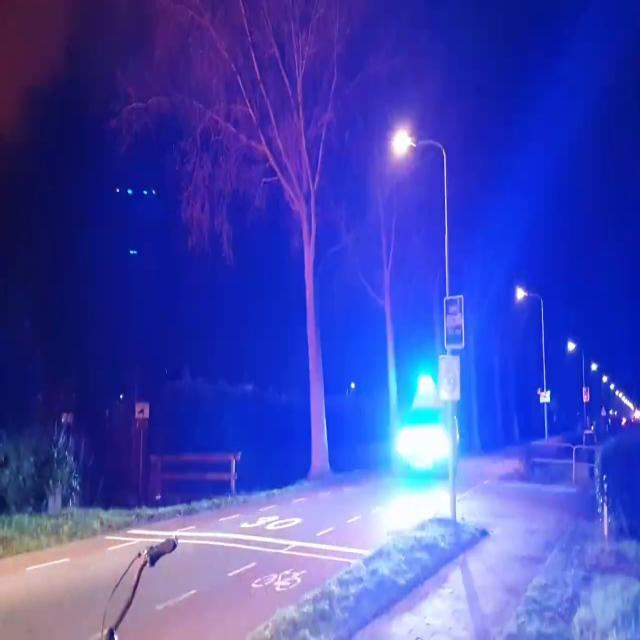Smoke: (0, 1, 138, 493)
